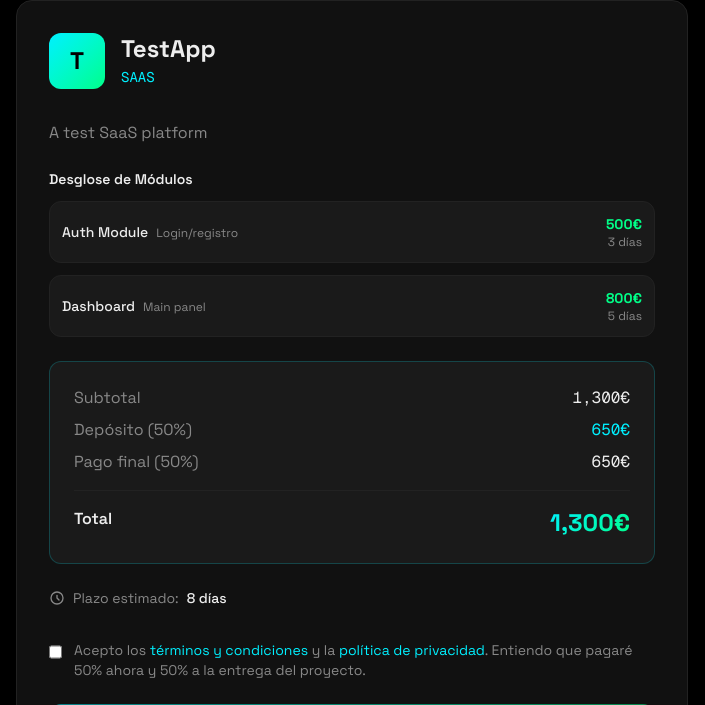
Test: ProposalCard Component › pay button enables after accepting terms
Click the checkbox: (56, 652) 49,644 -> 62,660
(page scrolled)
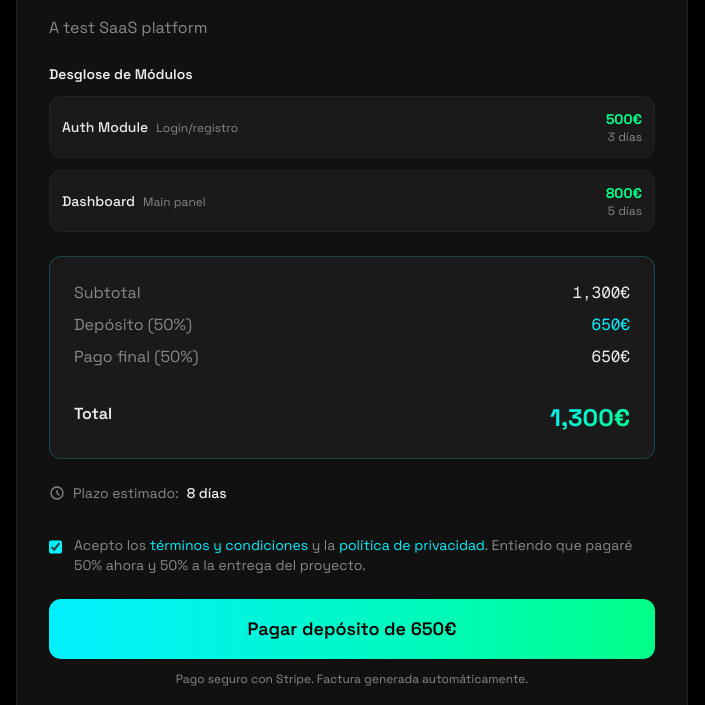
Expected: the button "Pagar depósito de 650€" is enabled, 49,599 -> 655,659
